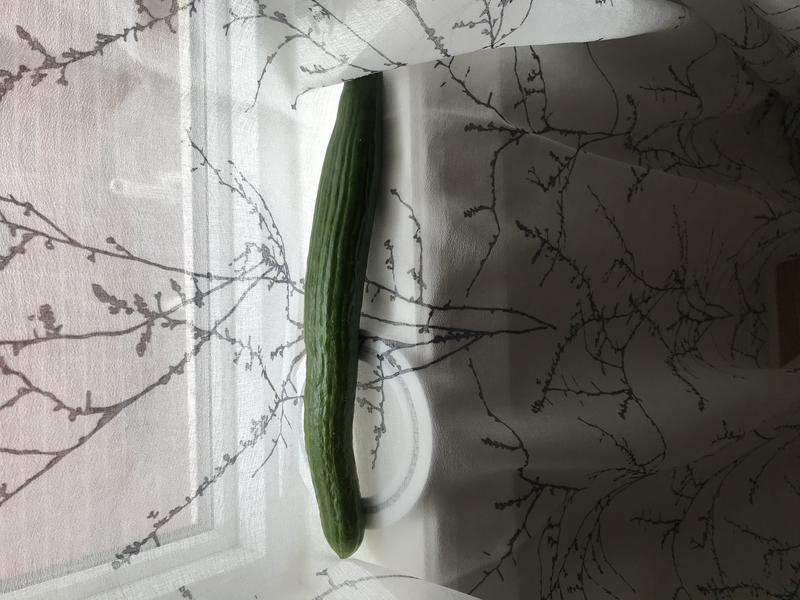cucumber: (294, 58, 395, 567)
